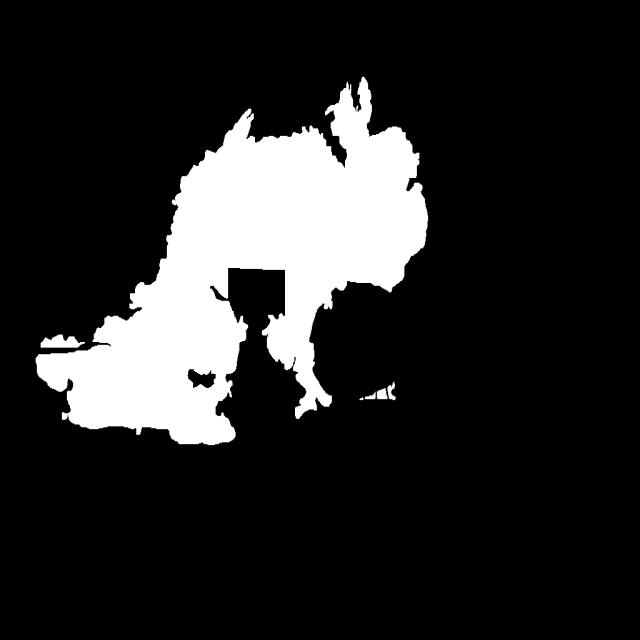fire: (17, 78, 429, 470)
